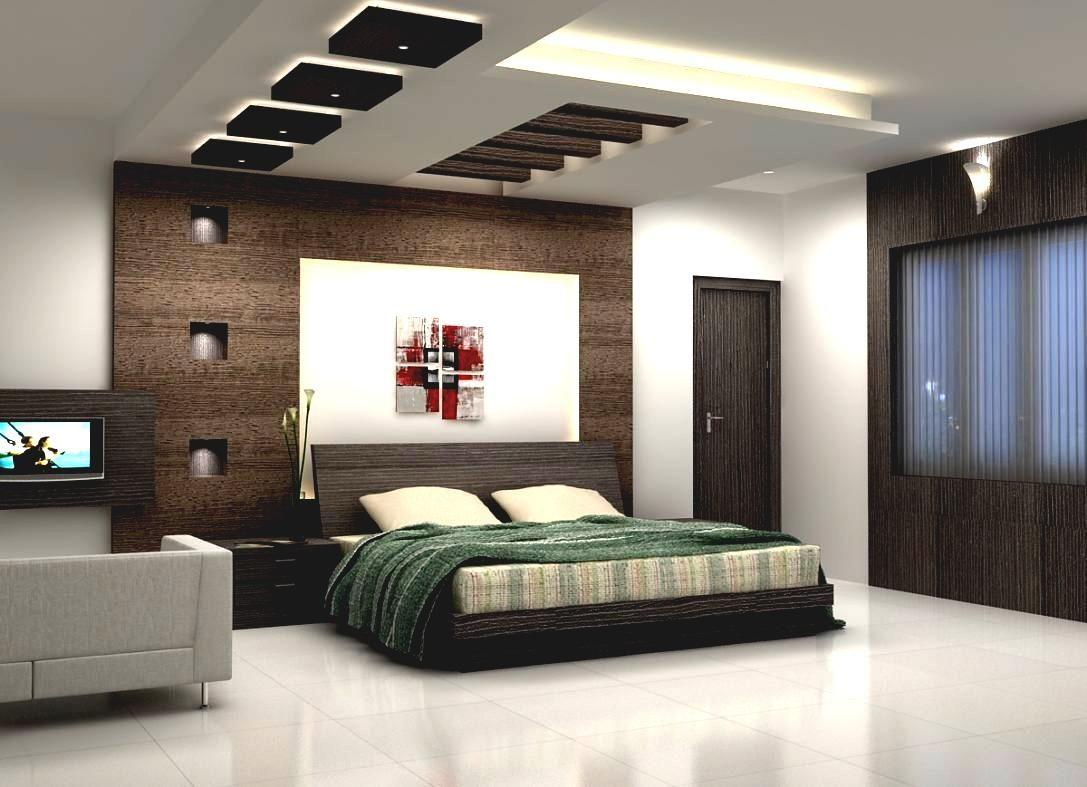bed: (320, 457, 867, 622)
